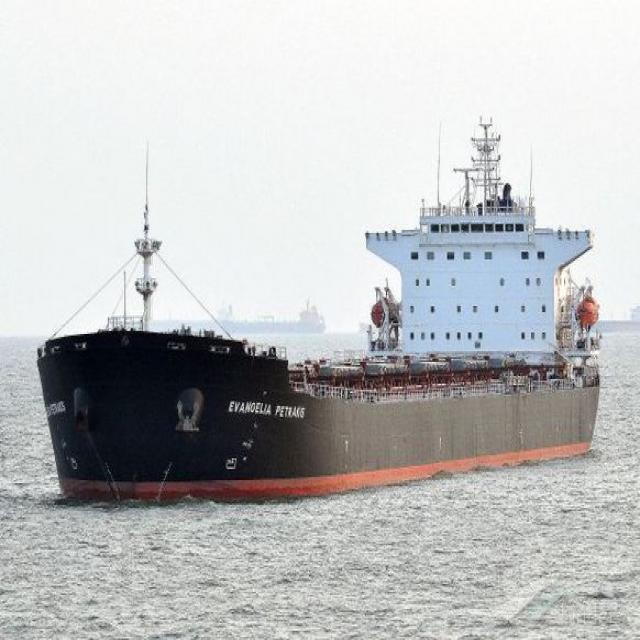OCR: (224, 391, 310, 432)
